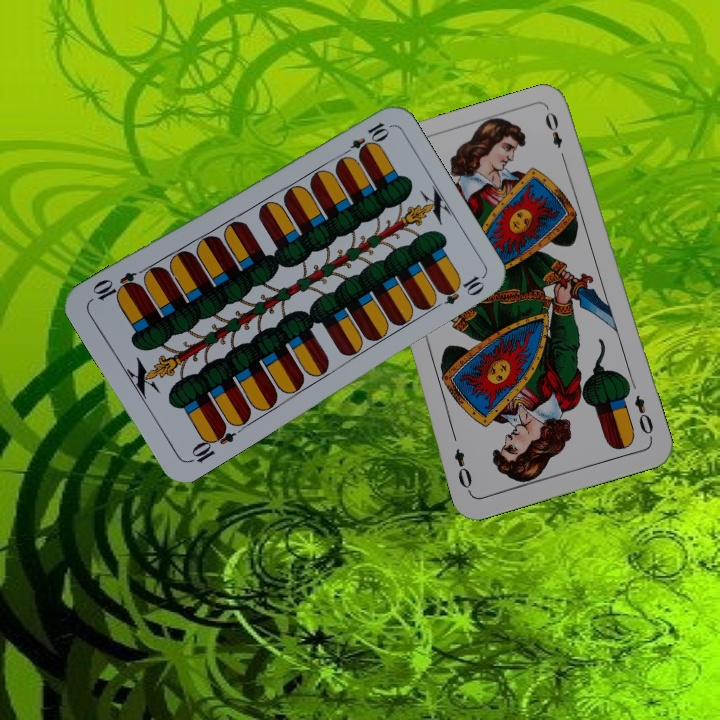E10: (185, 420, 238, 466), (337, 118, 391, 161)
EO: (630, 391, 656, 442)
